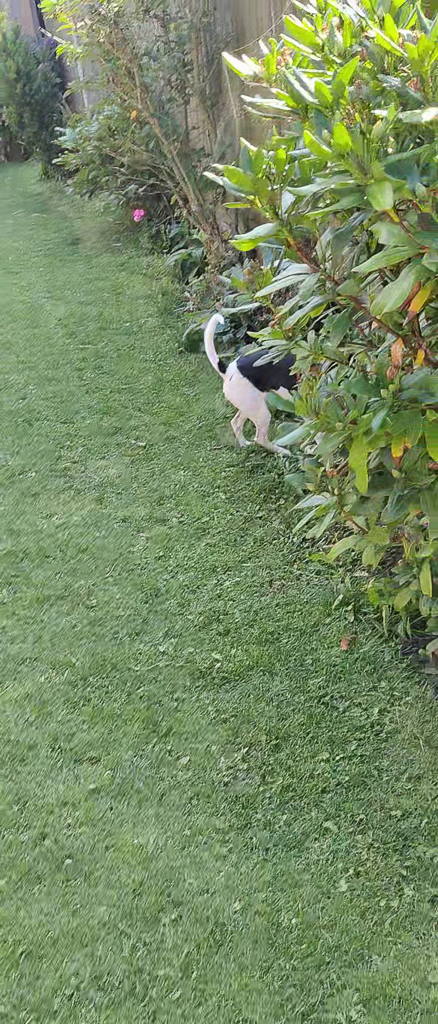Dog: (196, 305, 325, 464)
